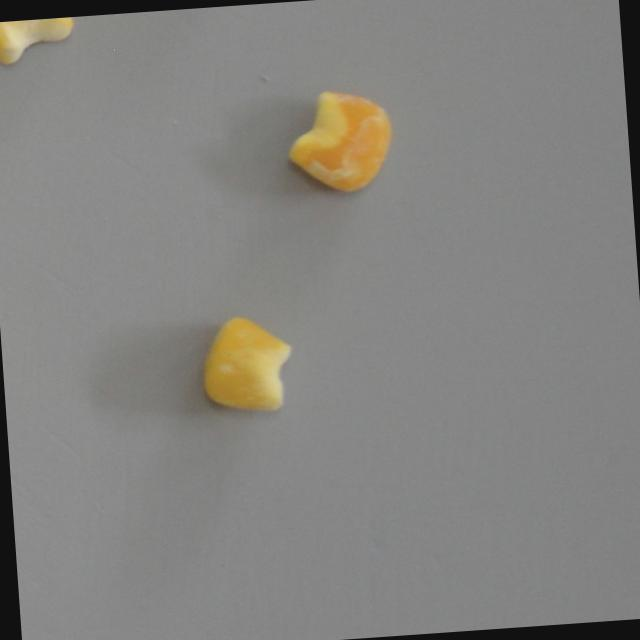no_canjicado: (196, 312, 297, 416)
pelicula: (283, 83, 395, 196), (0, 17, 75, 64)
